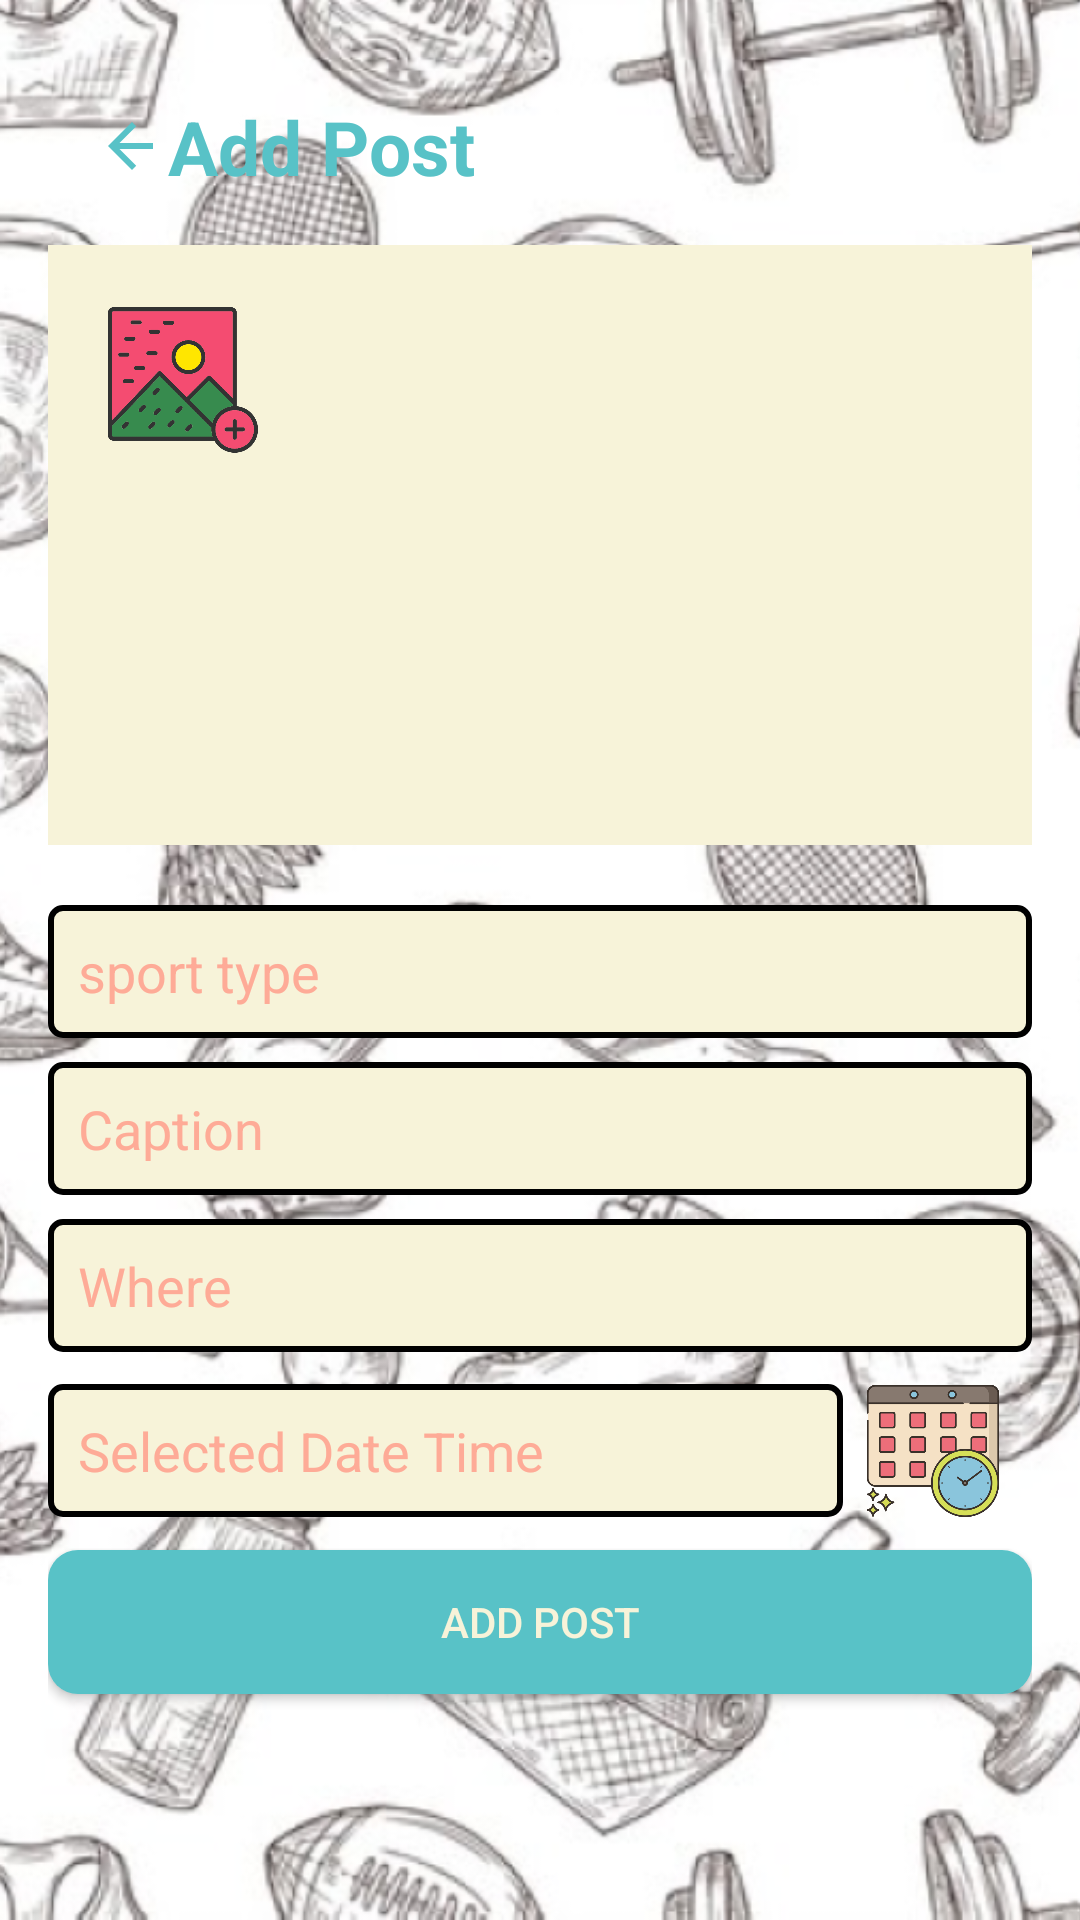

Icons on this 1080×1920 Android screen, each with the point to tap as point (x, y):
Back: point (126, 140)
select datatime: point (933, 1451)
